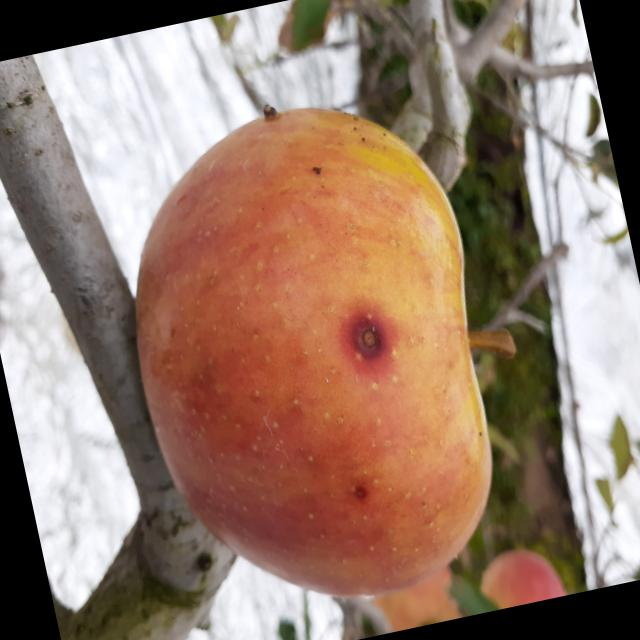rotten: (87, 65, 542, 640)
